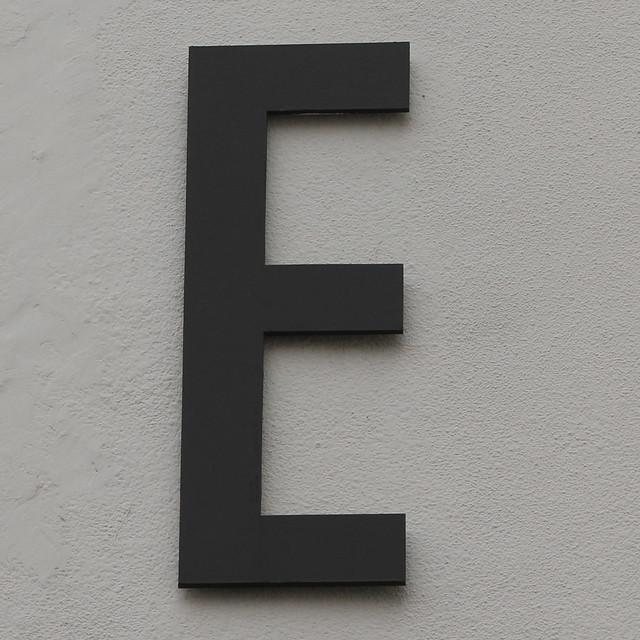E: (127, 17, 451, 624)
